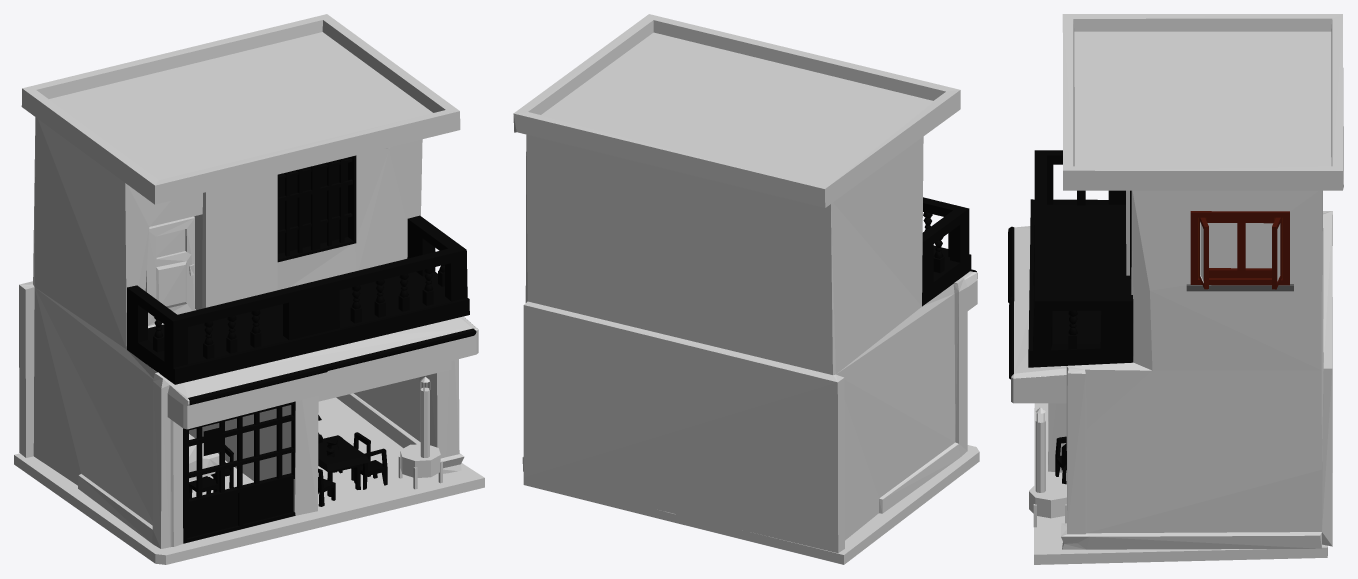
The model's file is TWOSTORYCOLRED.fbx.
The picture shows the model from 3 angles, left to right: view 1: azimuth 30°, elevation 25°; view 2: azimuth 150°, elevation 25°; view 3: azimuth 270°, elevation 25°; orthographic projection. The views are drawn at different scales.
Visible parts, largest first — view 1: TWOSTORYCOLOREDBUILDING; view 2: TWOSTORYCOLOREDBUILDING; view 3: TWOSTORYCOLOREDBUILDING.
Part boxes in pixels (box(x1,y1,x2,y2)): TWOSTORYCOLOREDBUILDING: box(14, 14, 484, 564); TWOSTORYCOLOREDBUILDING: box(513, 14, 979, 564); TWOSTORYCOLOREDBUILDING: box(1008, 14, 1343, 564).
Bounding box in the file's own units: 155 × 162 × 127.
